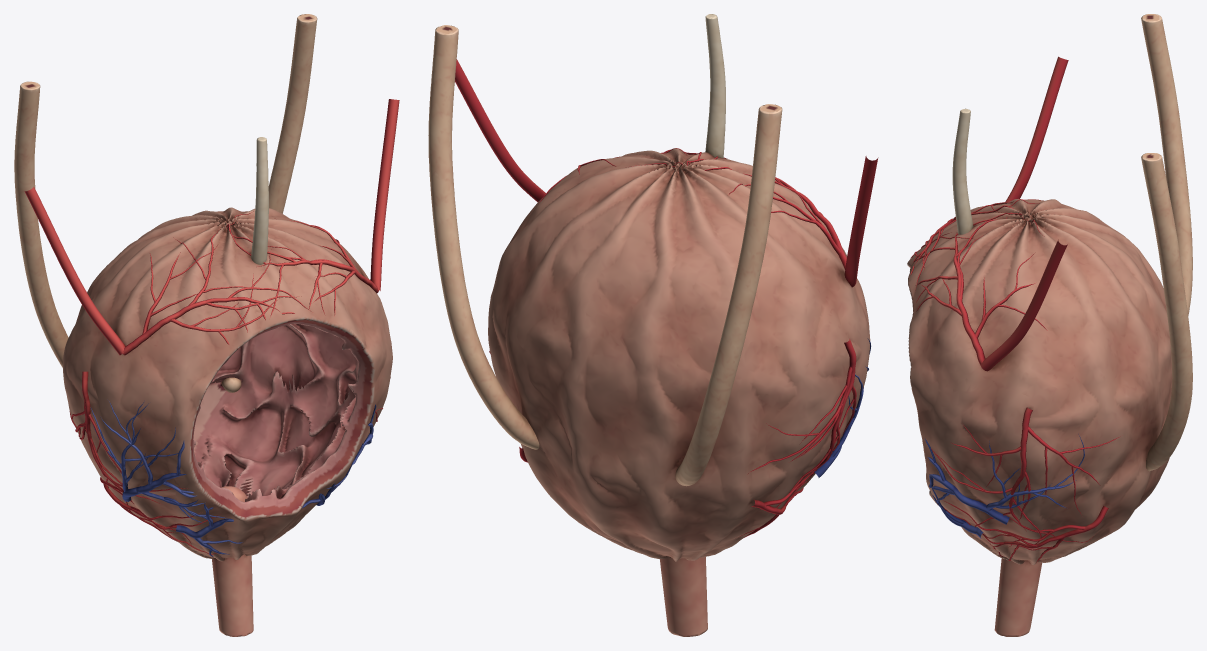
Rendered from bladder.85aec798.glb.
The picture shows the model from 3 angles, left to right: view 1: azimuth 30°, elevation 25°; view 2: azimuth 150°, elevation 25°; view 3: azimuth 270°, elevation 25°; orthographic projection. The views are drawn at different scales.
Visible parts, largest first — view 1: Detrusor wall, Vesical arteries, Ureters, Vesical veins, Urethra, Median umbilical ligament; view 2: Detrusor wall, Ureters, Vesical arteries, Urethra, Median umbilical ligament; view 3: Detrusor wall, Ureters, Vesical arteries, Urethra, Vesical veins, Median umbilical ligament.
Boxes of the visible parts, x1,y1,x2,y2 form: Detrusor wall: (63, 207, 392, 561); Vesical arteries: (24, 99, 399, 554); Ureters: (14, 14, 317, 392); Vesical veins: (90, 400, 376, 556); Urethra: (212, 486, 253, 636); Median umbilical ligament: (251, 137, 268, 264); Detrusor wall: (488, 148, 870, 561); Ureters: (428, 25, 782, 486); Vesical arteries: (455, 59, 878, 538); Urethra: (659, 557, 707, 636); Median umbilical ligament: (705, 14, 725, 157); Detrusor wall: (907, 199, 1172, 564); Ureters: (1141, 14, 1192, 471); Vesical arteries: (910, 56, 1120, 562); Urethra: (994, 558, 1042, 636); Vesical veins: (925, 434, 1084, 538); Median umbilical ligament: (952, 108, 973, 234).
Size of the model in its own units: 2.56 by 3.46 by 1.65.
